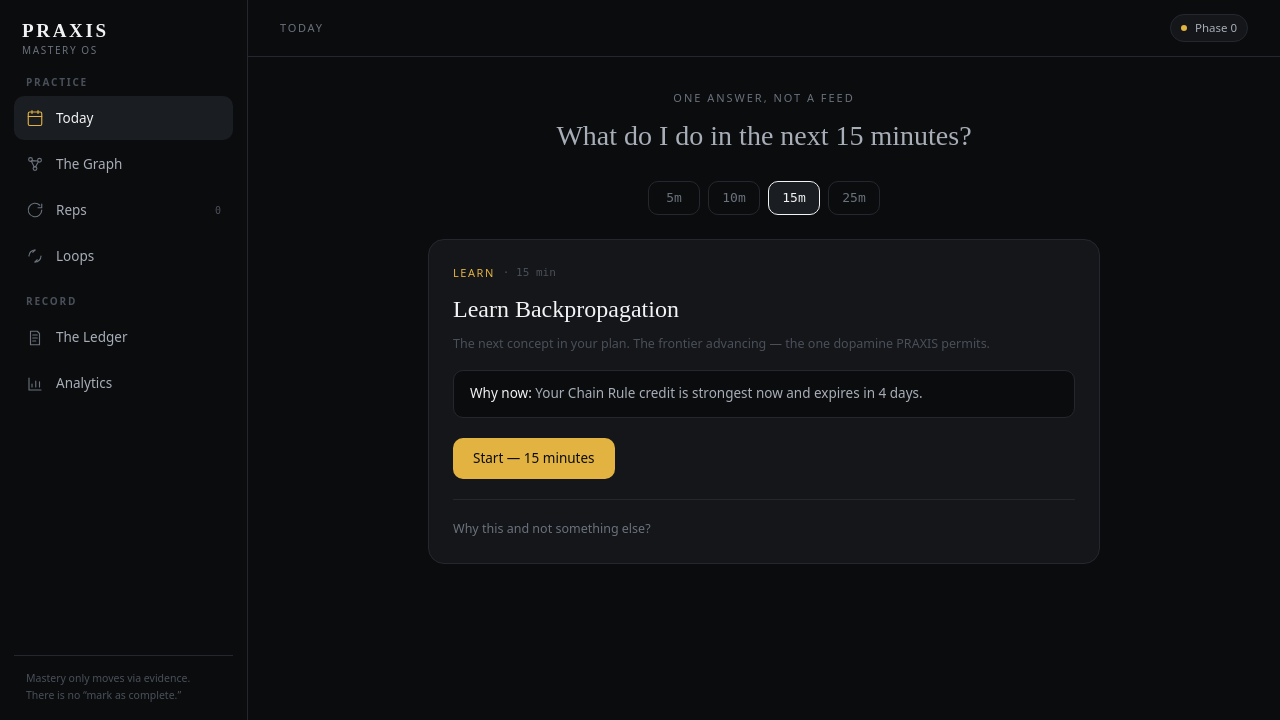
Test: TodayPage › shows one card with its reason and a start action, and reveals the audit only on ask
The width and height of the screenshot is (1280, 720).
Expected: the heading "Learn Backpropagation" is shown, [453,296,679,322]
Expected: the text "Why now:" is shown, [470,384,535,402]
Click the button "Why this and not something else?".
click(552, 528)  # box [453,519,651,538]
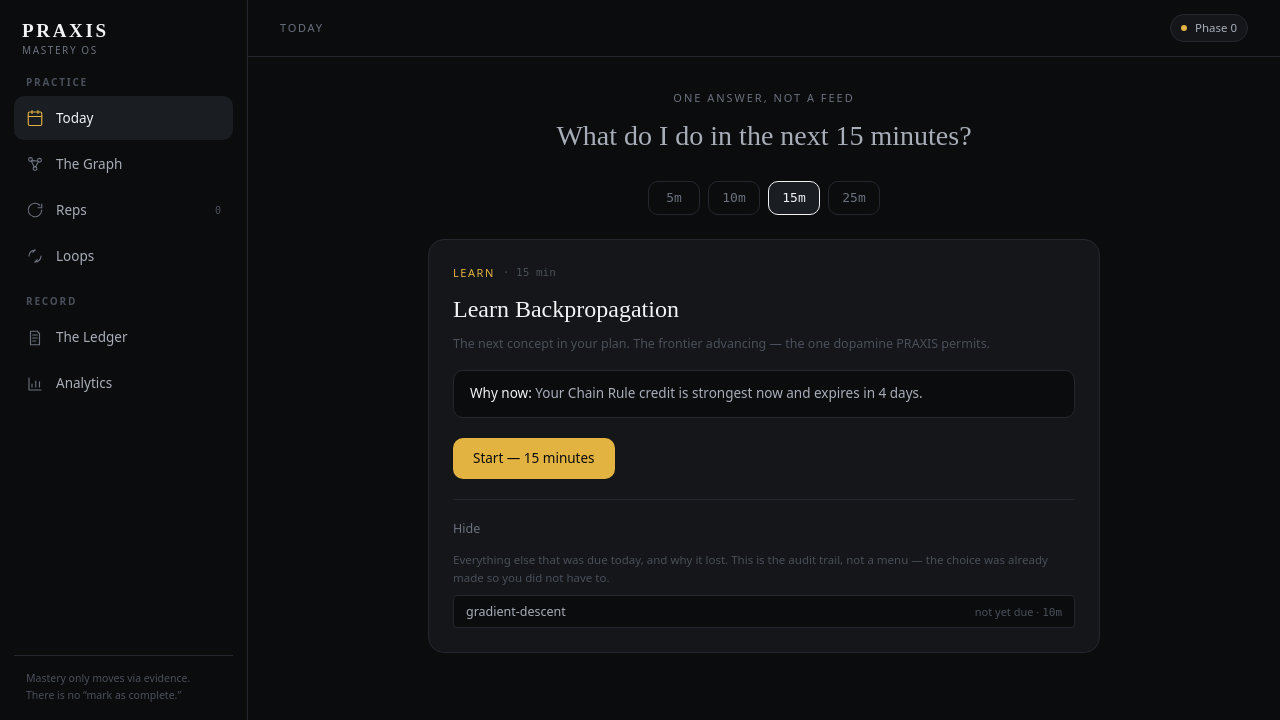
Result: the text "gradient-descent" is shown at [466,602,566,621]
